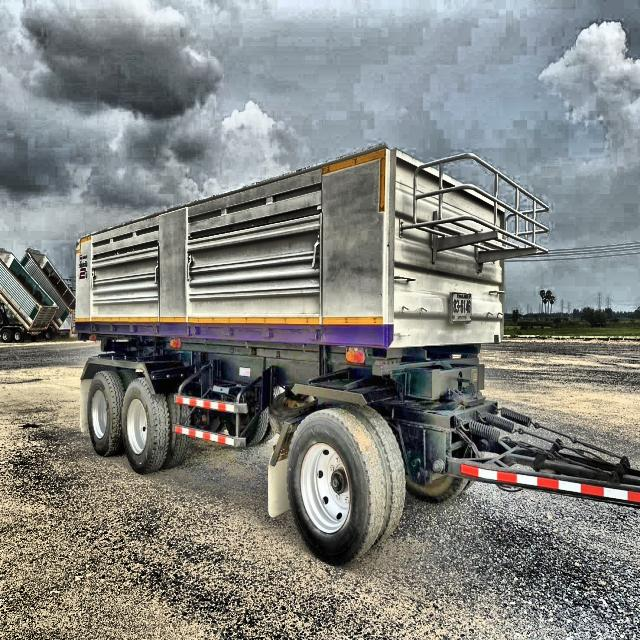trailer: (73, 139, 640, 566)
